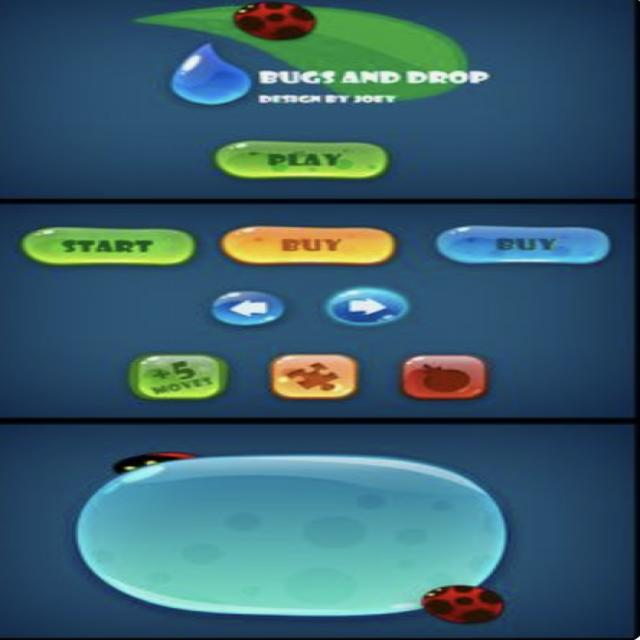Start-button: (201, 139, 414, 183)
